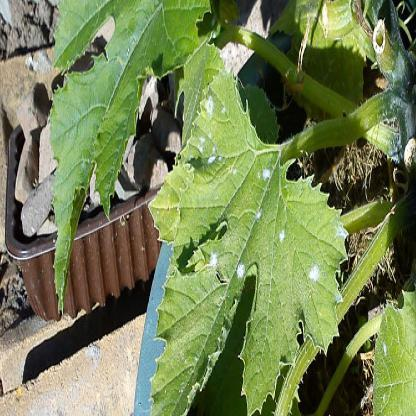Squash Powdery mildew leaf: (153, 76, 353, 415)
